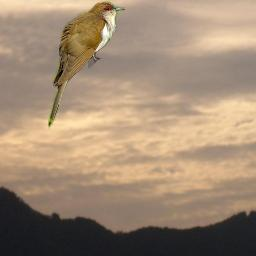Cuckoo: (48, 0, 125, 129)
